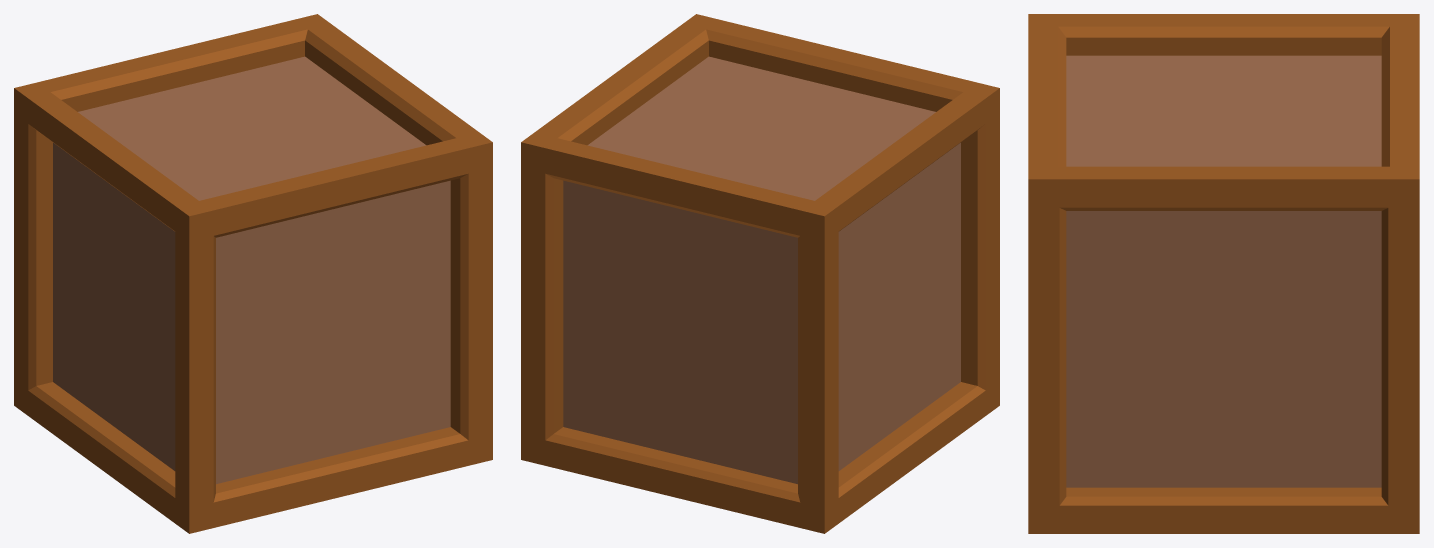
File: CaixaPequena.fbx
3 views of the same model, side by side, from view 1: azimuth 30°, elevation 25°; view 2: azimuth 150°, elevation 25°; view 3: azimuth 270°, elevation 25° (orthographic). The views are drawn at different scales.
Parts seen in each view (by area): view 1: CaixaPequena; view 2: CaixaPequena; view 3: CaixaPequena.
Part boxes in pixels (bbox=[...]): CaixaPequena: bbox=[14, 14, 492, 533]; CaixaPequena: bbox=[521, 14, 999, 533]; CaixaPequena: bbox=[1028, 14, 1419, 533].
Bounding box in the file's own units: 47.91 × 47.91 × 47.91.
